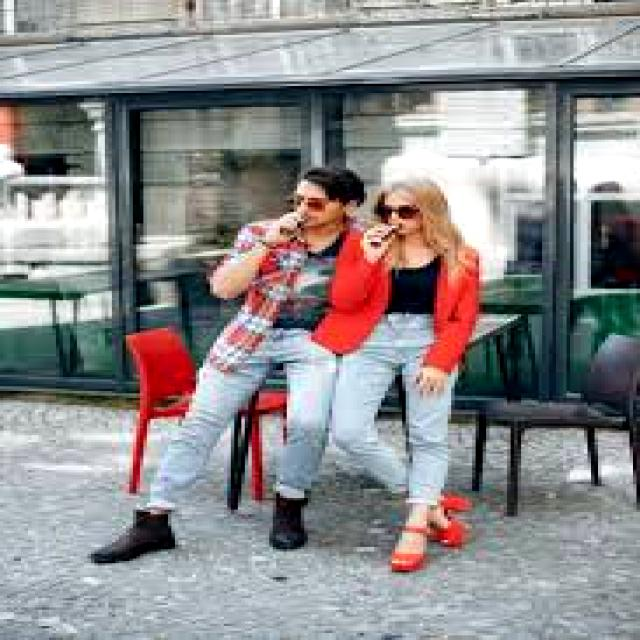face: (294, 182, 346, 228), (378, 191, 423, 237)
foot-wear: (91, 510, 174, 563), (270, 494, 307, 549), (431, 519, 468, 546), (392, 550, 426, 572)
lower-wear: (147, 329, 335, 509), (333, 315, 458, 505)
